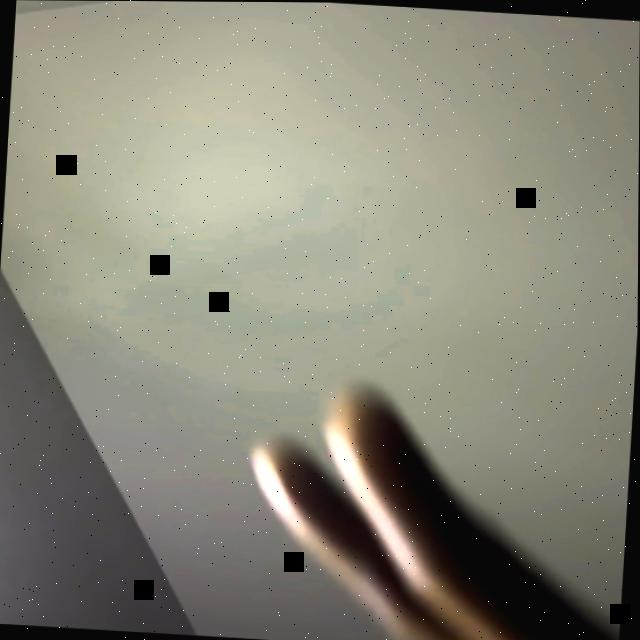Scissors: (238, 374, 634, 640)
